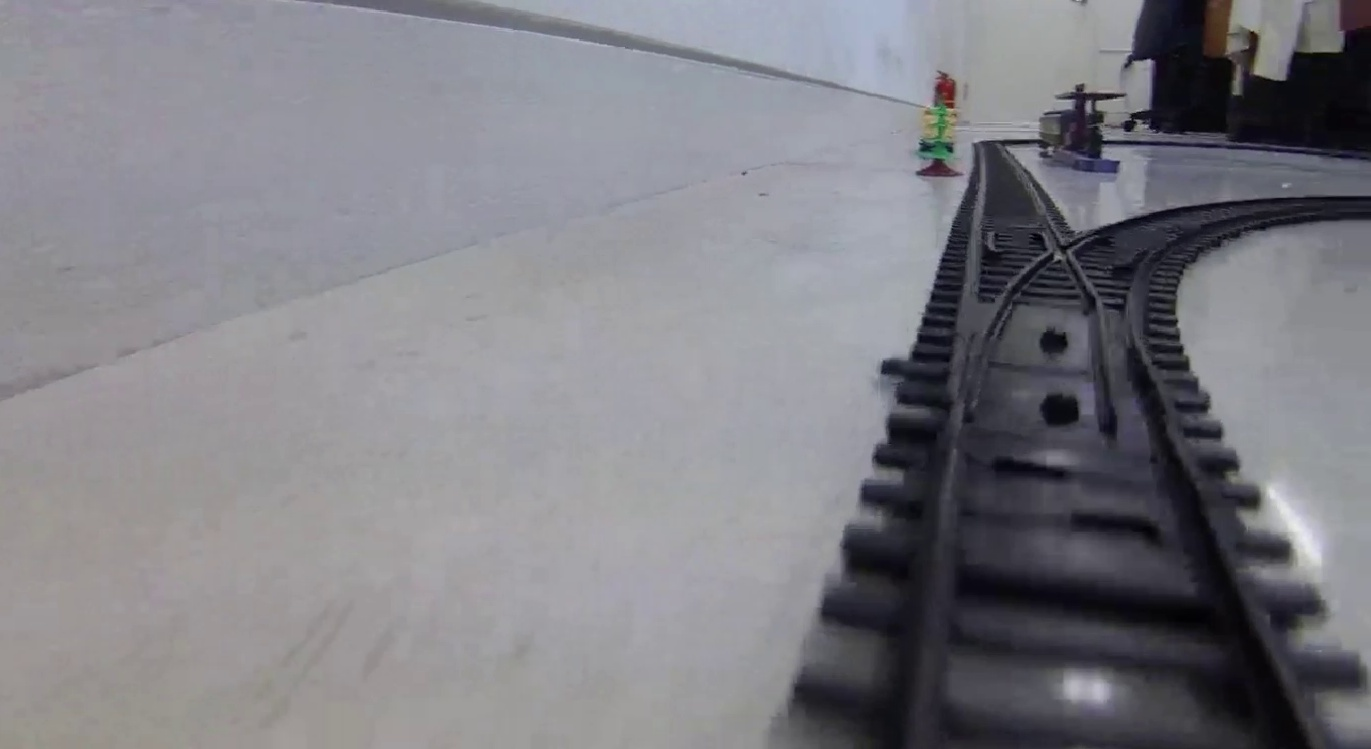tree: (916, 102, 964, 179)
